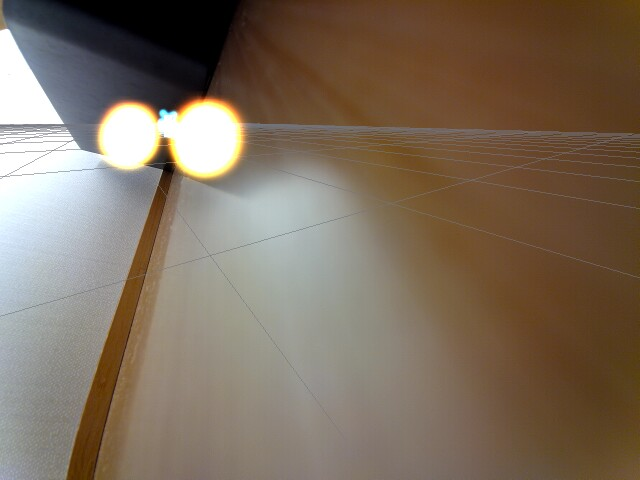firebig: (173, 90, 244, 182)
